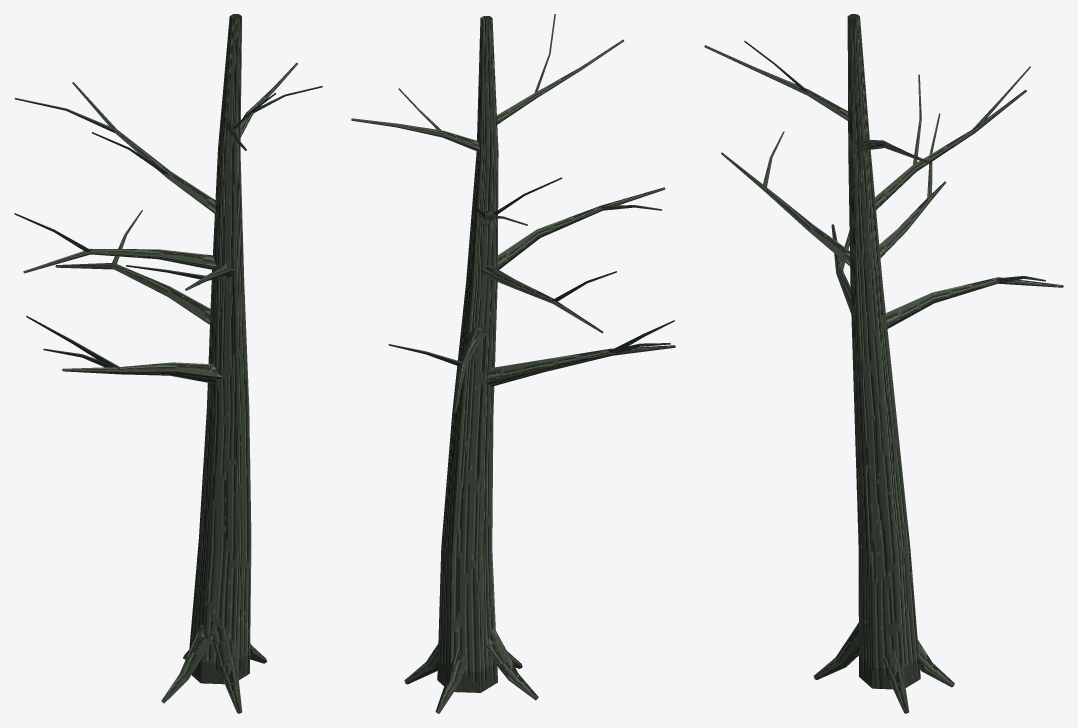
File: SM_Forest_Tree_DeadA_380x390x800.fbx
The picture shows the model from 3 angles, left to right: view 1: azimuth 30°, elevation 25°; view 2: azimuth 150°, elevation 25°; view 3: azimuth 270°, elevation 25°; orthographic projection. The views are drawn at different scales.
Parts seen in each view (by area): view 1: SM_Forest_Tree_DeadA_380x390x800.041; view 2: SM_Forest_Tree_DeadA_380x390x800.041; view 3: SM_Forest_Tree_DeadA_380x390x800.041.
Part boxes in pixels (x1,y1,x2,y2): SM_Forest_Tree_DeadA_380x390x800.041: (14, 14, 322, 713); SM_Forest_Tree_DeadA_380x390x800.041: (351, 14, 675, 713); SM_Forest_Tree_DeadA_380x390x800.041: (704, 14, 1063, 713).
Bounding box in the file's own units: 3.78 × 8.12 × 3.94.
